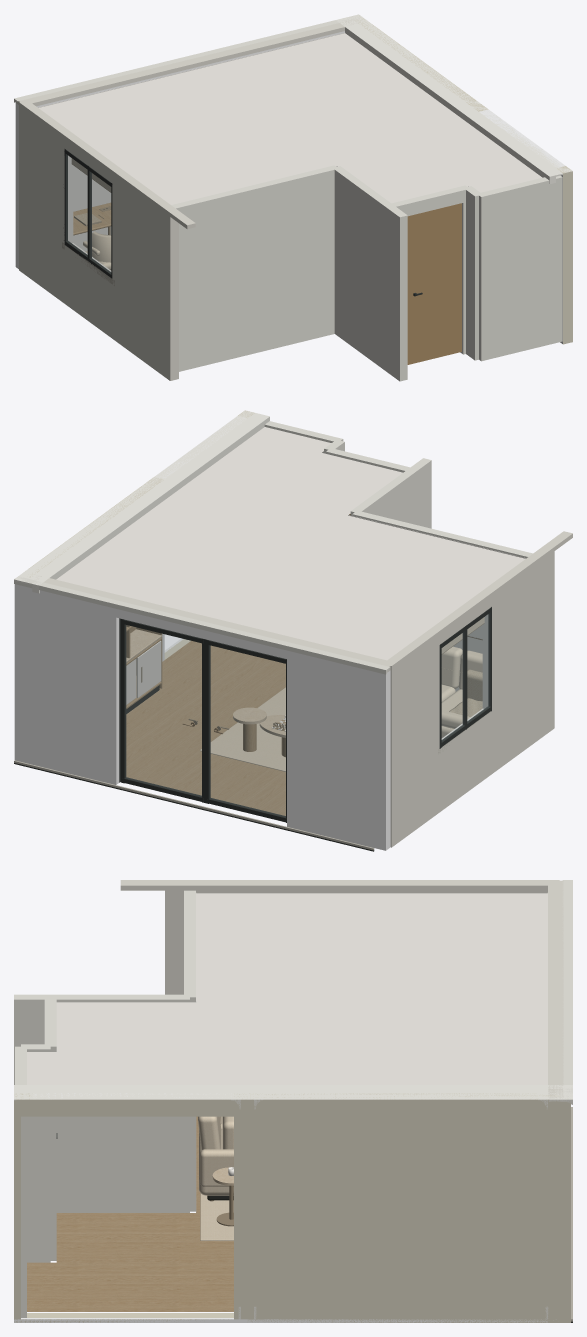
3 renders of one model, top to bottom at view 1: azimuth 30°, elevation 25°; view 2: azimuth 150°, elevation 25°; view 3: azimuth 270°, elevation 25°, orthographic. The views are drawn at different scales.
Visible parts, largest first — view 1: Family 01 | ivory ceiling.001, Proposal | Side shared bathroom north.001, Proposal | Side hall south flare edge.001, Proposal | Side shared bathroom east.001, Proposal | Side bedrooms west pier 2.001, Proposal | Side bedroom south door leaf.001, Proposal | Side bedrooms west end pier.001, Roof join | West soffit.001, Proposal | Side bedrooms west window 2 glass.001, Proposal | Side wing rear roof wall closure 0.001, Proposal | Side bedrooms west sill 2.001, Roof join | West fascia.001 (+14 smaller); view 2: Family 01 | ivory ceiling.001, Proposal | Side bedrooms rear pier 0.001, Proposal | Side bedrooms rear end pier.001, Family 01 | wide oak floor.001, Proposal | Terrace access right glazed leaf glass.001, Proposal | Terrace access left glazed leaf glass.001, Proposal | Side bedrooms west pier 2.001, Proposal | Side bedrooms west end pier.001, Roof join | West soffit.001, Proposal | Side bedrooms west window 2 glass.001, Proposal | Joined roof lining 077 | Side wing continued rear, Proposal | Side bedrooms west sill 2.001 (+22 smaller); view 3: Family 01 | ivory ceiling.001, Proposal revision | First west | end.001, Family 01 | wide oak floor.001, Proposal | Side shared bathroom east.001, Roof join | West soffit.001, Bedroom 3 rear | pier 0.001, Proposal | Side wing west roof wall closure 2.001, Proposal revision | First west | lintel 0.001, Proposal | Side hall south flare return.001, Proposal | Side wing rear roof wall closure 0.001, Bedroom 3 to 5 | end.001, Proposal | Side bedrooms west pier 2.001 (+12 smaller).
Part boxes in pixels (x1,y1,x2,y2): Family 01 | ivory ceiling.001: (39, 33, 542, 204); Proposal | Side shared bathroom north.001: (171, 165, 335, 371); Proposal | Side hall south flare edge.001: (477, 175, 562, 361); Proposal | Side shared bathroom east.001: (333, 166, 407, 381); Proposal | Side bedrooms west pier 2.001: (112, 175, 178, 380); Proposal | Side bedroom south door leaf.001: (407, 203, 461, 364); Proposal | Side bedrooms west end pier.001: (19, 106, 64, 303); Roof join | West soffit.001: (340, 14, 571, 176); Proposal | Side bedrooms west window 2 glass.001: (67, 155, 110, 272); Proposal | Side wing rear roof wall closure 0.001: (15, 18, 360, 106); Proposal | Side bedrooms west sill 2.001: (64, 245, 112, 338); Roof join | West fascia.001: (336, 18, 555, 183); Family 01 | ivory ceiling.001: (56, 427, 525, 660); Proposal | Side bedrooms rear pier 0.001: (287, 650, 390, 850); Proposal | Side bedrooms rear end pier.001: (17, 585, 119, 784); Family 01 | wide oak floor.001: (126, 640, 285, 815); Proposal | Terrace access right glazed leaf glass.001: (126, 625, 201, 796); Proposal | Terrace access left glazed leaf glass.001: (210, 646, 285, 816); Proposal | Side bedrooms west pier 2.001: (492, 551, 554, 773); Proposal | Side bedrooms west end pier.001: (390, 635, 440, 847); Roof join | West soffit.001: (14, 410, 267, 585); Proposal | Side bedrooms west window 2 glass.001: (442, 614, 489, 740); Proposal | Joined roof lining 077 | Side wing continued rear: (27, 578, 389, 674); Proposal | Side bedrooms west sill 2.001: (440, 711, 491, 811); Family 01 | ivory ceiling.001: (27, 893, 547, 1084); Proposal revision | First west | end.001: (234, 1093, 559, 1319); Family 01 | wide oak floor.001: (27, 1116, 233, 1311); Proposal | Side shared bathroom east.001: (14, 994, 189, 1212); Roof join | West soffit.001: (14, 1086, 572, 1099); Bedroom 3 rear | pier 0.001: (548, 1099, 570, 1319); Proposal | Side wing west roof wall closure 2.001: (120, 880, 545, 890); Proposal revision | First west | lintel 0.001: (32, 1093, 233, 1116); Proposal | Side hall south flare return.001: (21, 1044, 50, 1262); Proposal | Side wing rear roof wall closure 0.001: (548, 880, 563, 1098); Bedroom 3 to 5 | end.001: (241, 1098, 253, 1319); Proposal | Side bedrooms west pier 2.001: (165, 890, 316, 994).
Bounding box in the file's own units: 5.23 × 2.48 × 5.62.
Materials: 24 (4 with a texture image).
